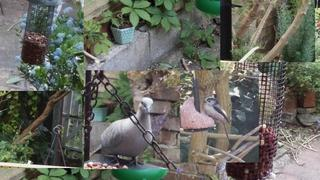collared dove: (90, 97, 153, 166)
long tailed tit: (203, 97, 232, 152)
